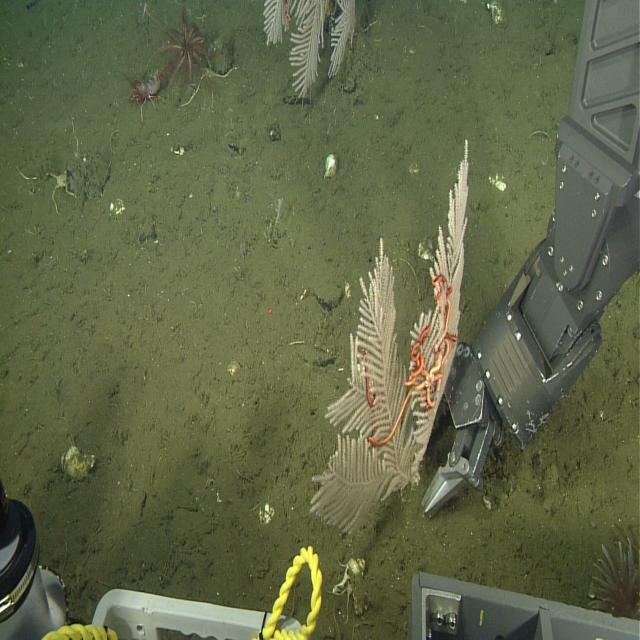Brittle Star: (45, 164, 78, 218)
